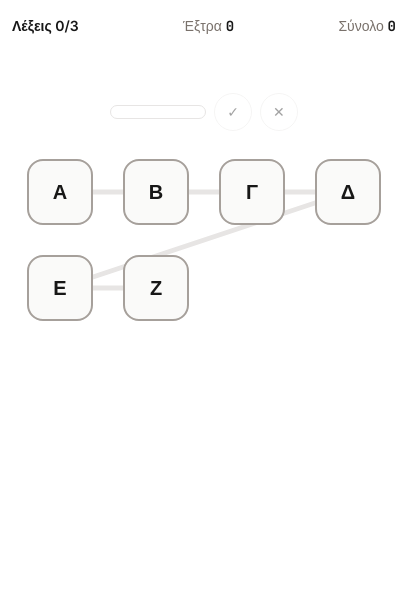
LeksoplegmaBoard › accepts a tap-built extra word via the ✓ button for flat points
This screenshot has width=412, height=609.
Step 1. Click the button "β" → [156, 192], box [123,159,189,225]
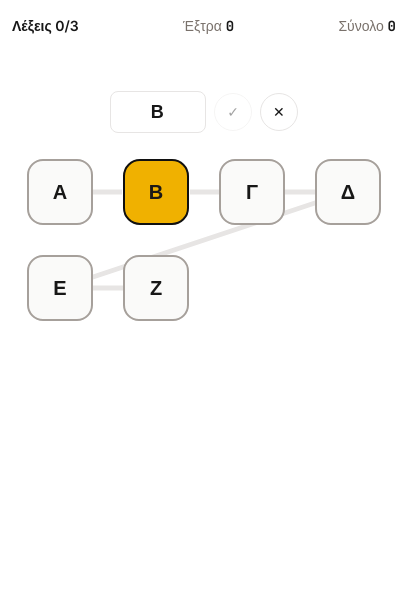
Step 2. Click the button "γ" → [252, 192], box [219,159,285,225]
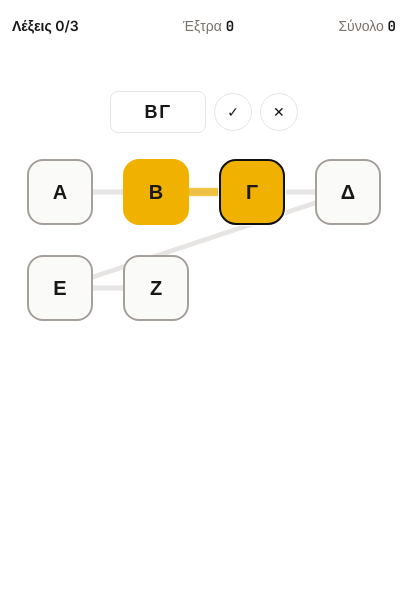
Step 3. Click the button "δ" → [348, 192], box [315,159,381,225]
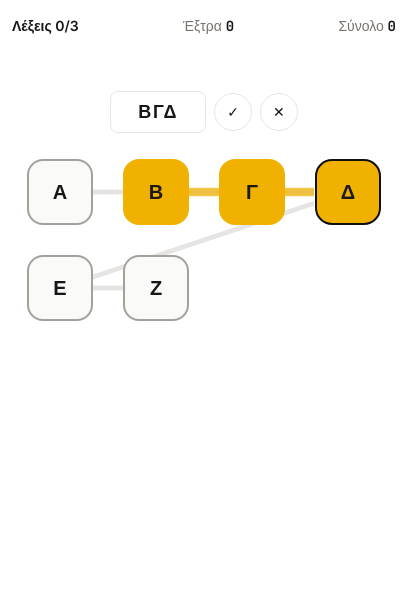
Now the text with test id "building-word" reads "βγδ", box [138,101,178,122]
Step 4. Click the button named "Καταχώρηση" → [233, 112], box [214,93,252,131]
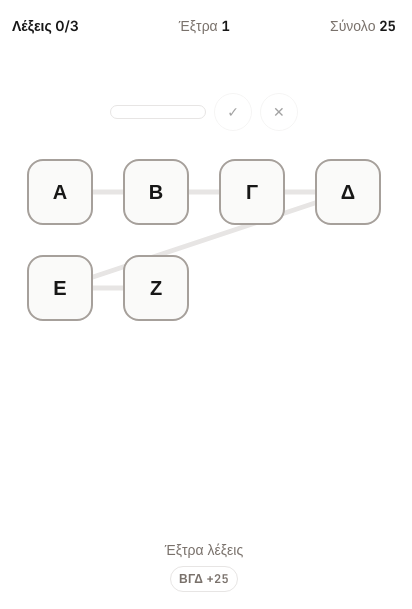
Now the element with test id "bonus-count" shows "1", box [222,17,230,35]
Now the list with test id "bonus-words" shows "βγδ", box [179,571,203,586]
Now the list with test id "bonus-words" shows "25", box [214,571,229,587]
